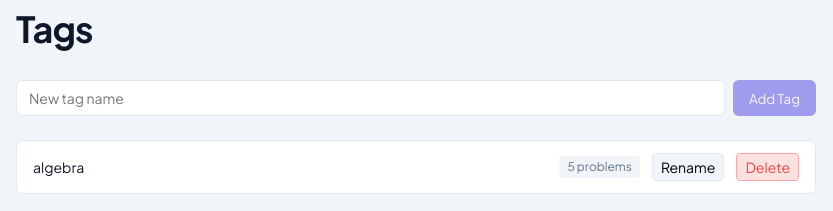
Test: TagsPage › renames a tag
The width and height of the screenshot is (833, 211).
expect the text "algebra" is shown: met, box [33,158,84,176]
Click the button with test id "edit-tag-button-t1" at x=688, y=167, box [652,153,724,181]
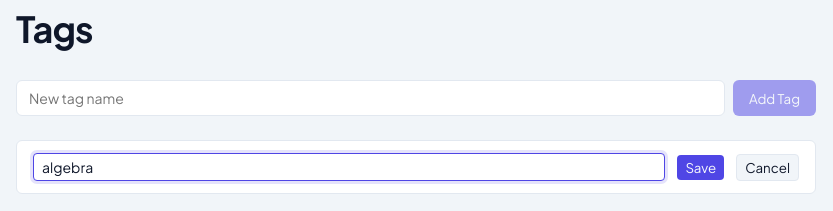
Replace the text in the field with test id "edit-tag-input-t1" with "algebra-ii" at x=349, y=167, box [33,153,665,181]
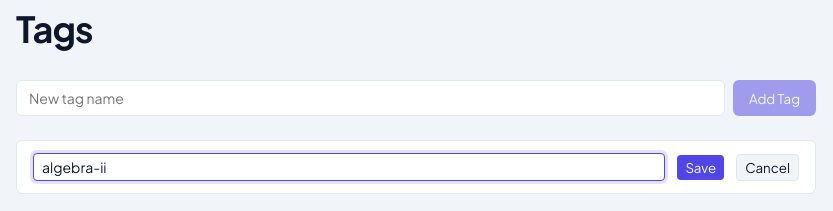
Click the button with test id "save-tag-button-t1" at x=701, y=167, box [677,155,724,180]
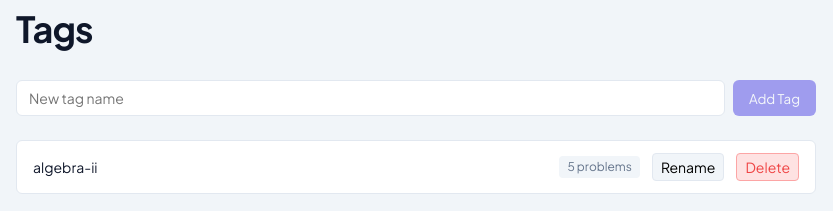
expect the text "algebra-ii" is shown: met, box [33,158,98,176]
